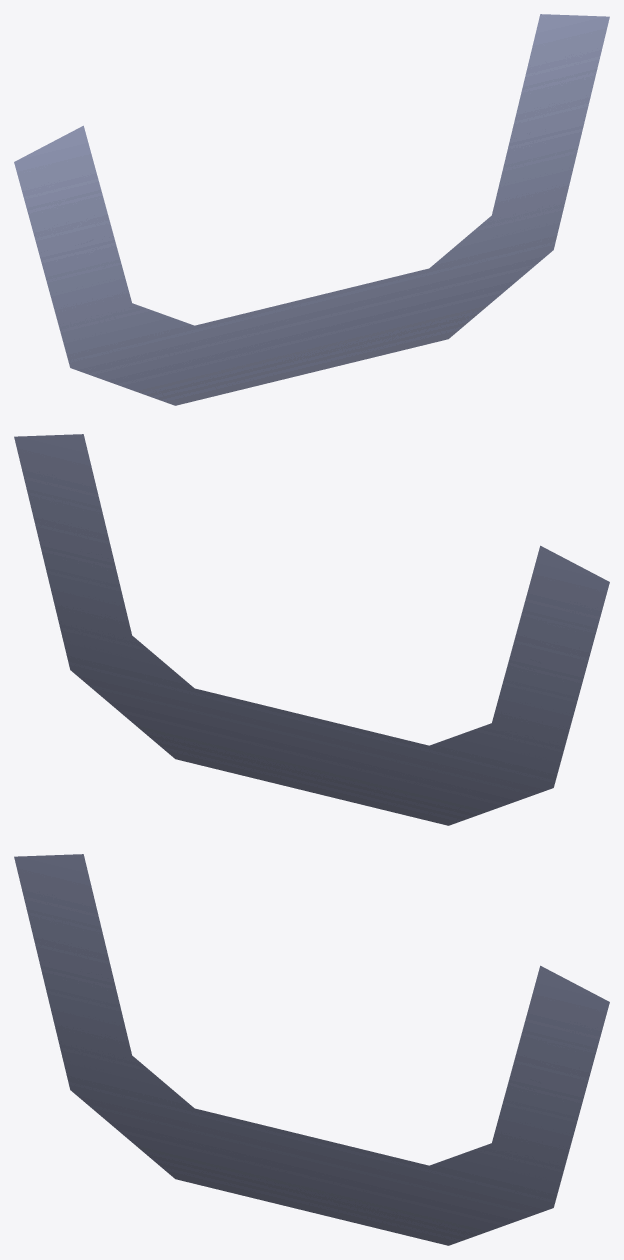
The model's file is coaster-flume-cap-front.glb.
The picture shows the model from 3 angles, top to bottom: view 1: azimuth 30°, elevation 25°; view 2: azimuth 150°, elevation 25°; view 3: azimuth 330°, elevation 25°; orthographic projection.
Visible parts, largest first — view 1: coaster-flume-cap-front; view 2: coaster-flume-cap-front; view 3: coaster-flume-cap-front.
Part boxes in pixels (x1,y1,x2,y2): coaster-flume-cap-front: (14,14,609,405); coaster-flume-cap-front: (14,434,609,825); coaster-flume-cap-front: (14,854,609,1245).
Bounding box in the file's own units: 0.826 × 0.4009 × 3.61e-16.
Materials: 1 (1 with a texture image).
